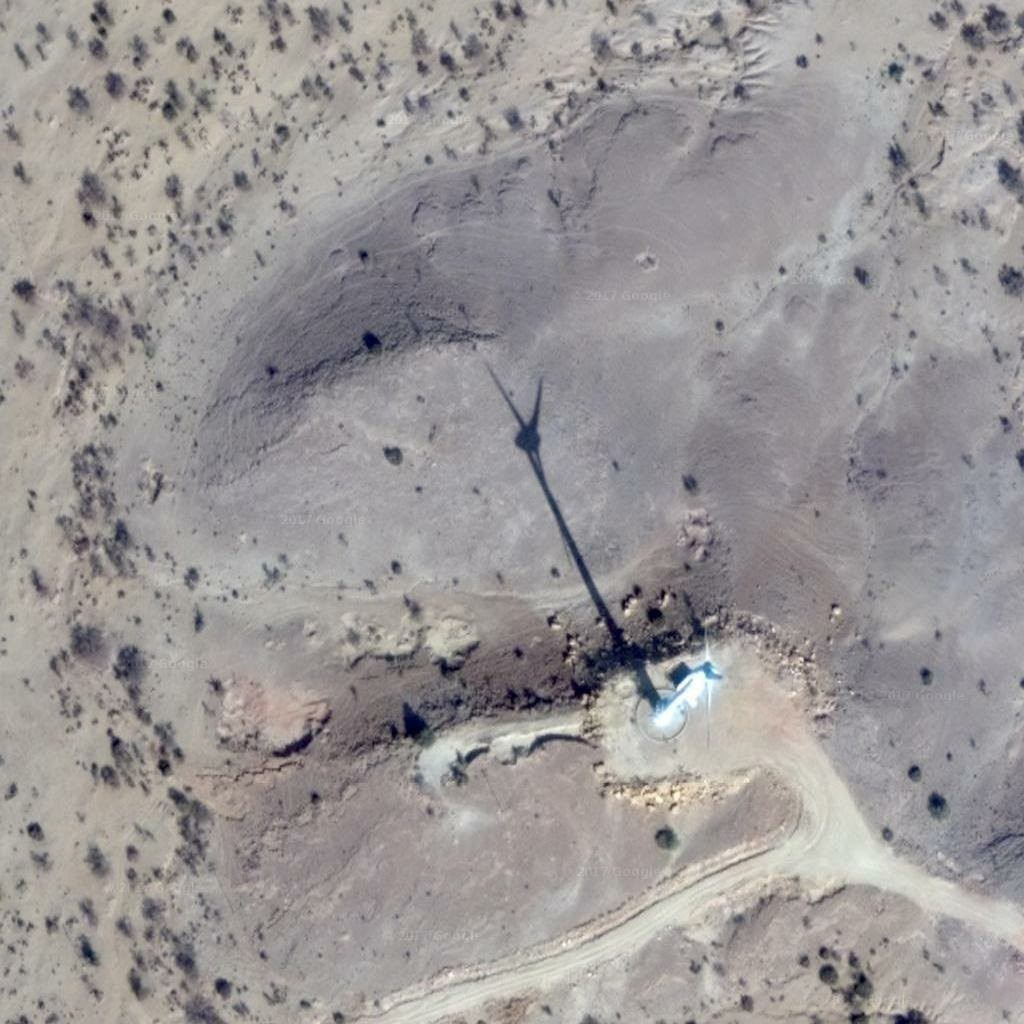Windmill: (484, 360, 645, 661)
